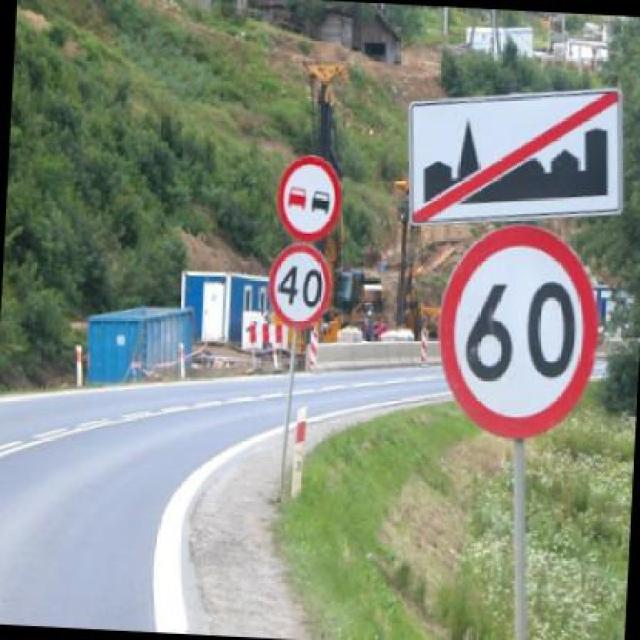Limite-60: (437, 222, 600, 436)
